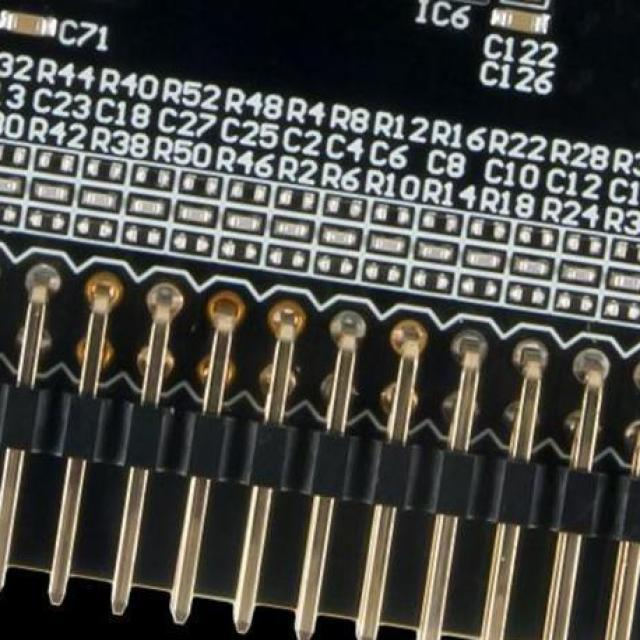IC: (121, 0, 543, 1)
capacitor: (218, 202, 270, 240), (264, 210, 317, 247), (313, 218, 366, 255), (119, 188, 173, 224), (408, 232, 461, 268), (72, 180, 126, 215), (169, 195, 221, 231), (361, 225, 412, 261), (456, 241, 508, 276), (552, 258, 605, 292), (24, 174, 77, 208), (505, 248, 556, 283), (488, 4, 549, 33), (0, 7, 56, 38), (599, 264, 640, 298), (0, 165, 29, 199), (499, 0, 549, 7)
connector: (0, 202, 640, 640)
resistor: (268, 181, 322, 217), (115, 215, 169, 251), (29, 143, 81, 180), (77, 152, 130, 188), (404, 260, 457, 296), (548, 283, 601, 319), (412, 204, 466, 239), (510, 219, 562, 255), (21, 202, 73, 238), (461, 211, 514, 246), (355, 255, 408, 290), (558, 226, 609, 262), (124, 160, 178, 194), (67, 210, 119, 245), (307, 247, 362, 280), (221, 174, 274, 208), (365, 197, 418, 231), (172, 167, 225, 201), (211, 232, 264, 266), (165, 224, 216, 259), (452, 270, 504, 304), (500, 278, 552, 312), (318, 190, 370, 223), (595, 290, 640, 327), (260, 241, 310, 273), (603, 233, 640, 269), (0, 138, 34, 172), (0, 196, 24, 230)
